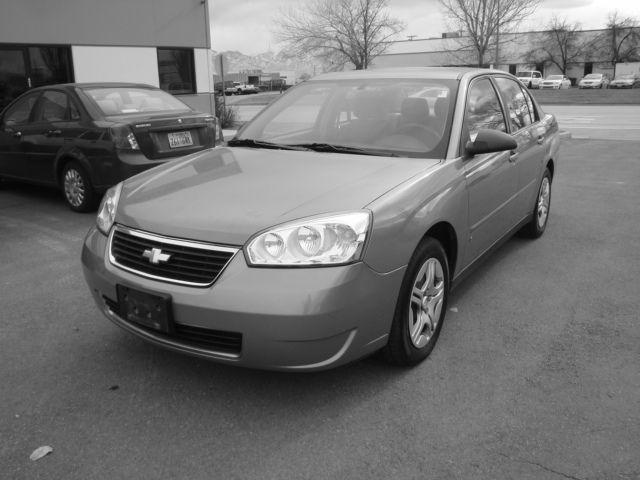car: (83, 68, 561, 373)
